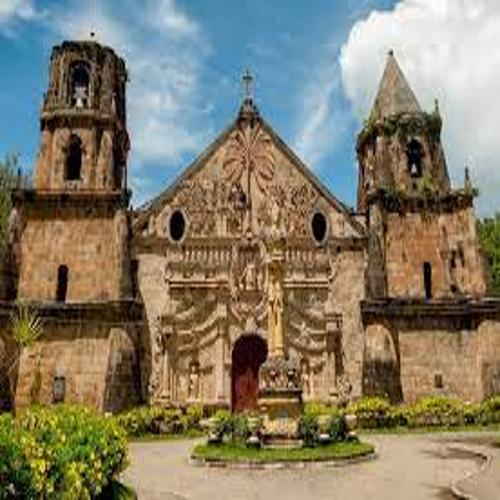Miagao Church: (16, 26, 500, 440)
